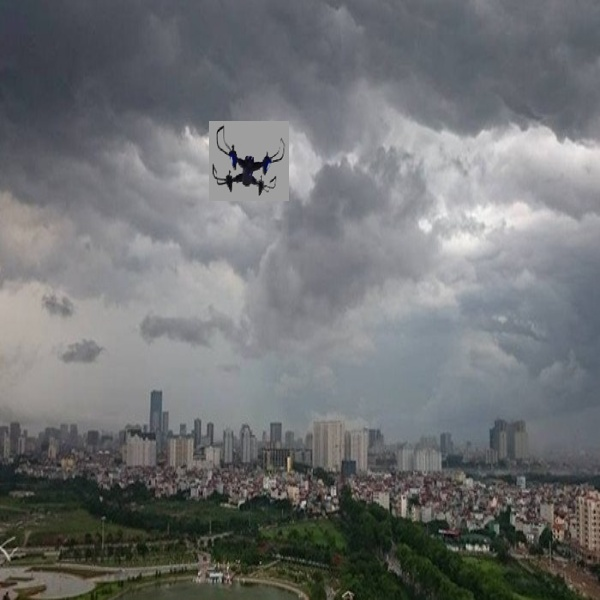drone: (206, 120, 292, 200)
